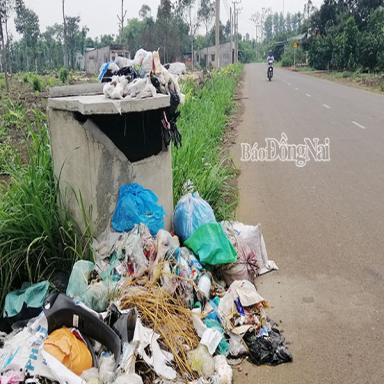plasticbag: (150, 189, 272, 303), (101, 50, 183, 138), (221, 287, 291, 365), (114, 316, 173, 376), (68, 254, 121, 320), (115, 178, 170, 240), (97, 51, 157, 89), (171, 188, 216, 238)
